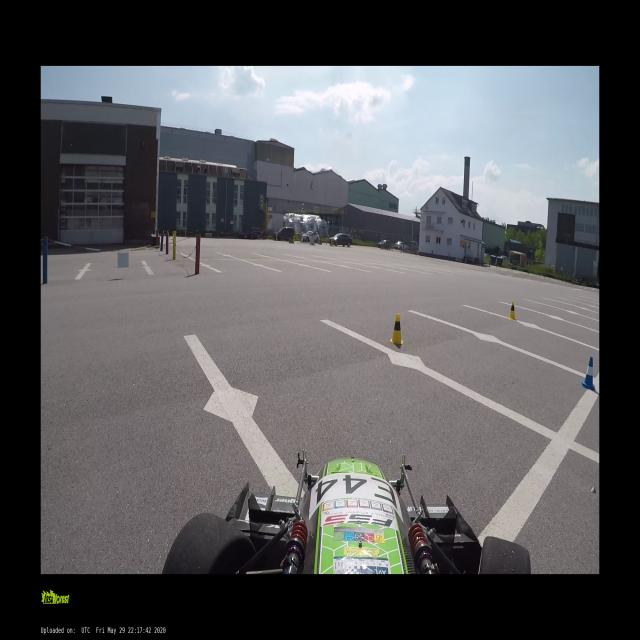blue_cone: (581, 358, 596, 390)
yellow_cone: (390, 313, 403, 345), (508, 301, 517, 320)
